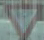Give way: (1, 3, 41, 39)
